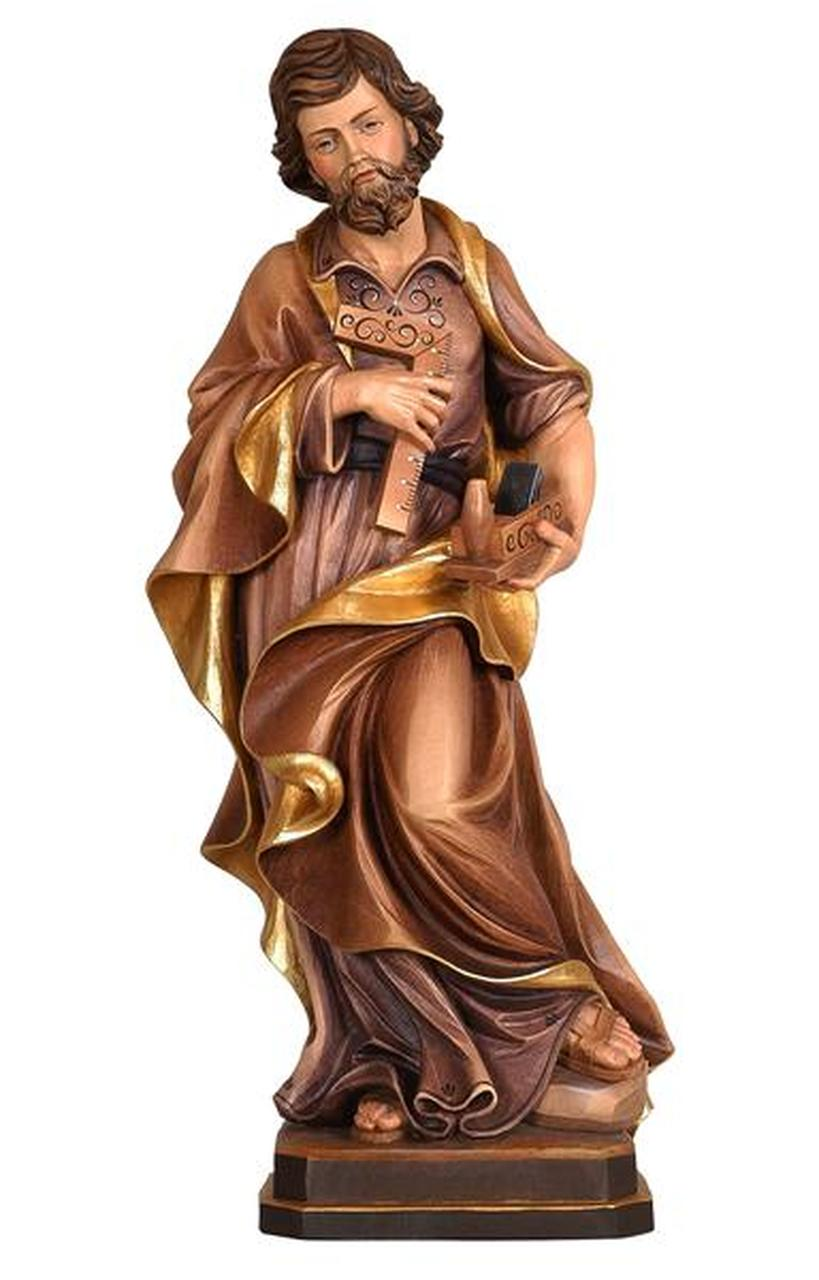person-like: (131, 16, 682, 1166)
